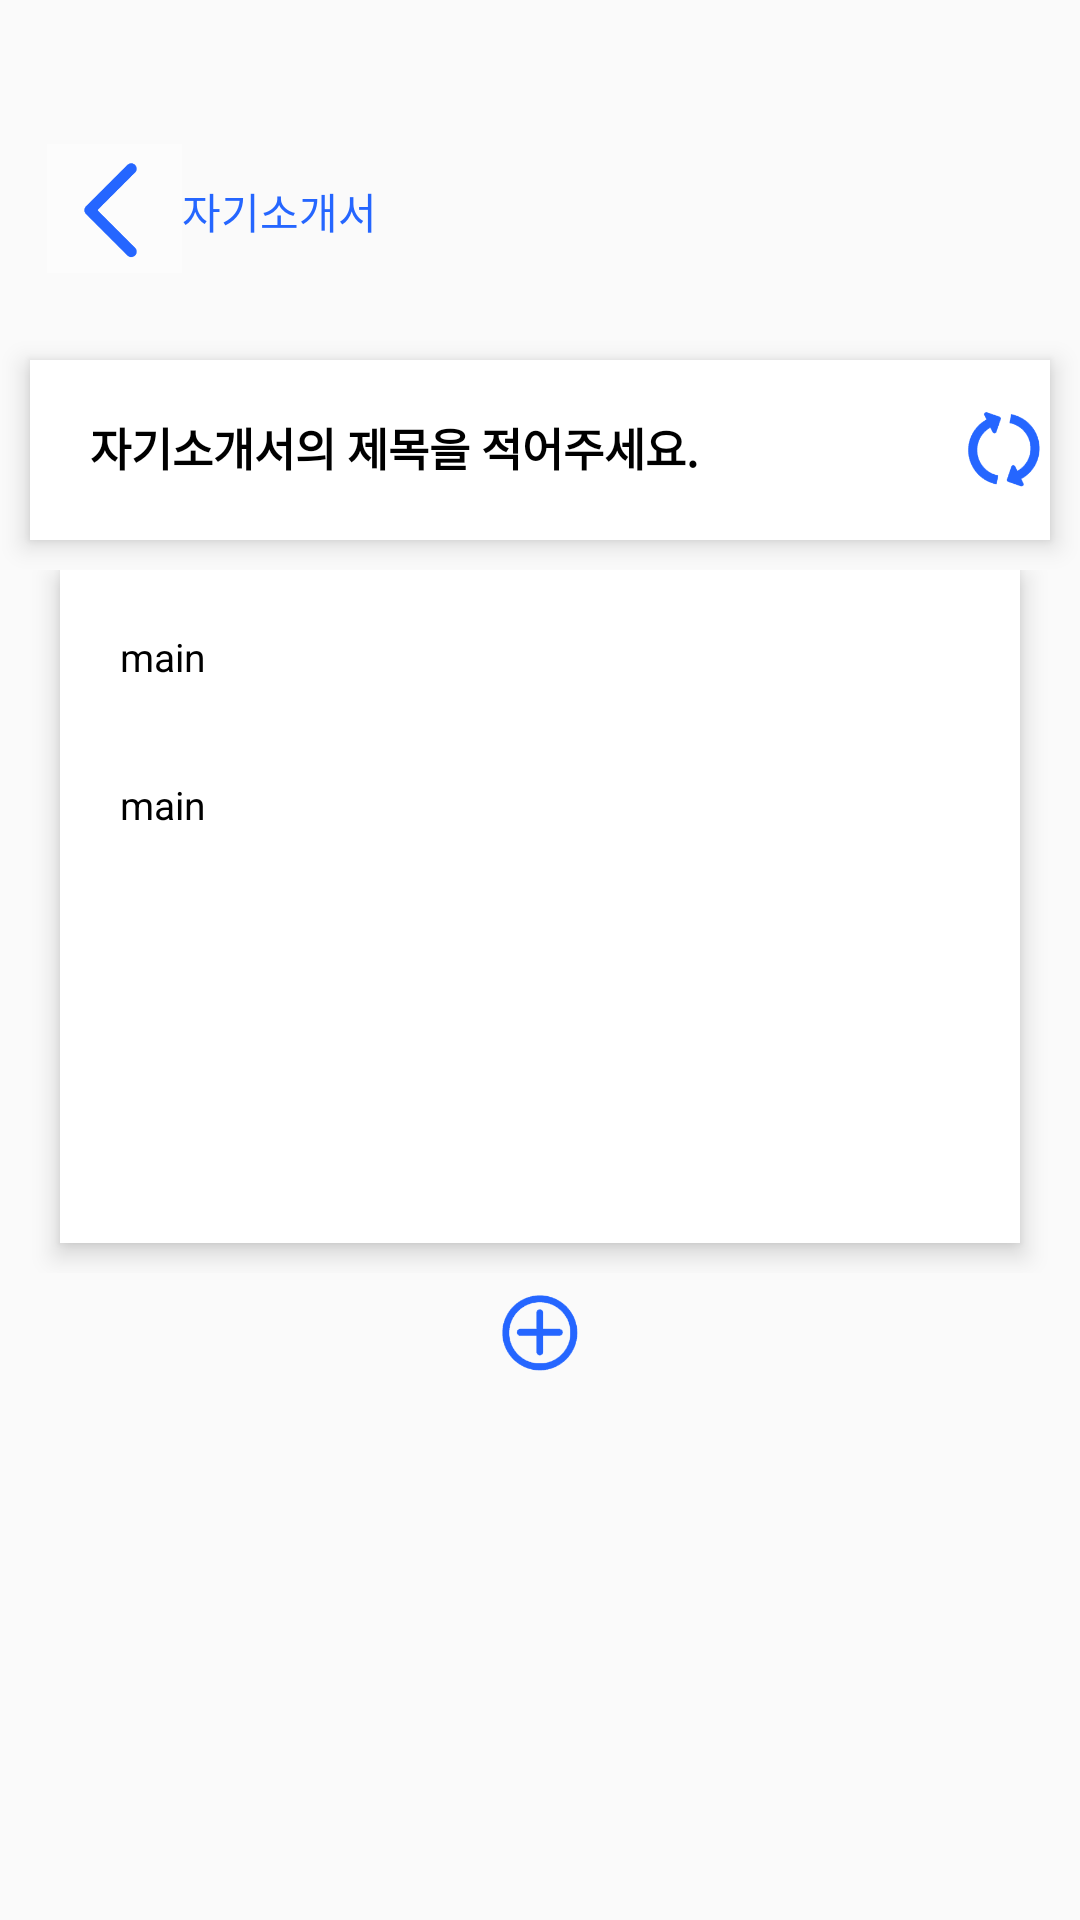

Where to tap for icons on this 1080px x 1920px app screen, as (x=x, y=y):
back: (x=110, y=210)
plus: (x=540, y=1333)
